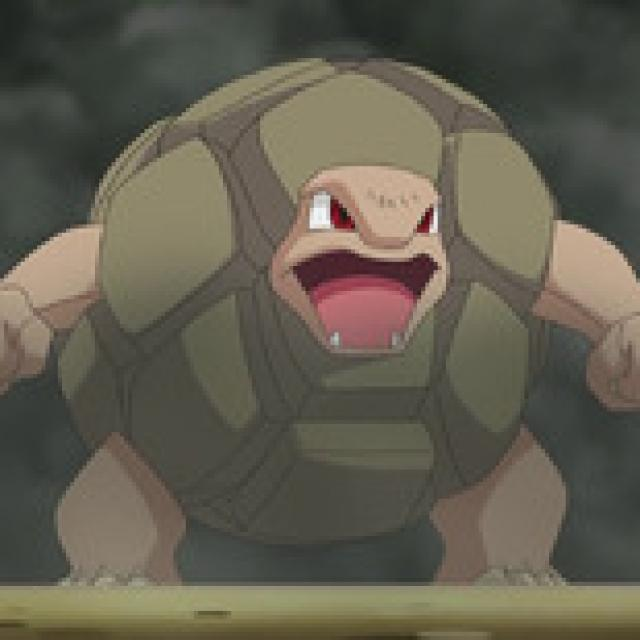Golem: (0, 51, 640, 593)
